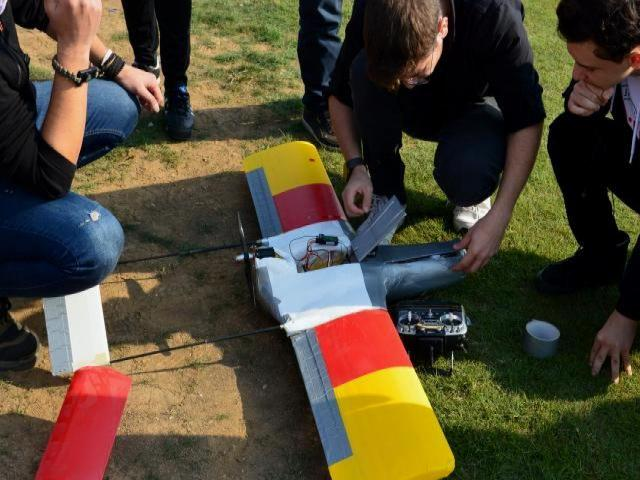iha: (34, 139, 475, 480)
